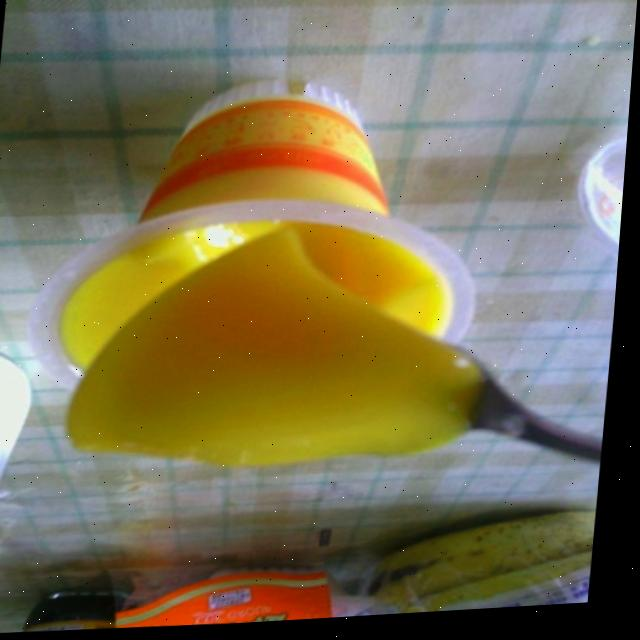面条主食: (12, 0, 550, 605)
